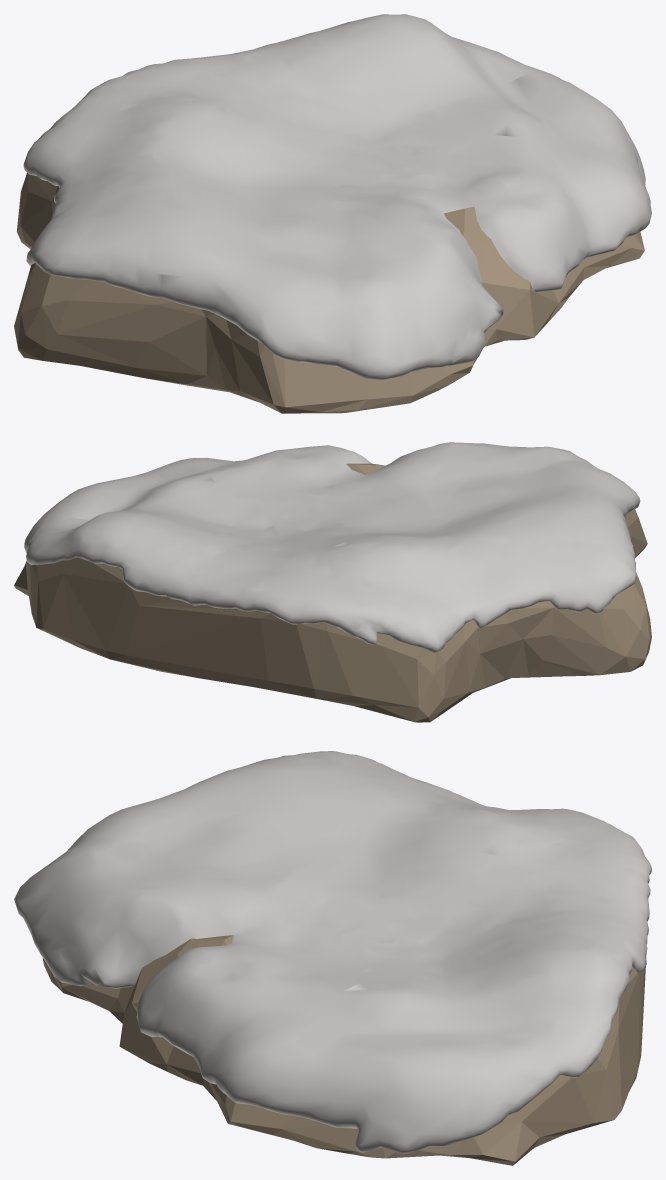
The model's file is Ground_001.fbx.
3 views of the same model, one above another, from view 1: azimuth 30°, elevation 25°; view 2: azimuth 150°, elevation 25°; view 3: azimuth 270°, elevation 25° (orthographic). The views are drawn at different scales.
Visible parts, largest first — view 1: Ground.001; view 2: Ground.001; view 3: Ground.001.
Boxes of the visible parts, box(x1,y1,x2,y2) form: Ground.001: box(14, 14, 651, 413); Ground.001: box(14, 442, 651, 722); Ground.001: box(14, 751, 651, 1165).
Size of the model in its own units: 3021 by 642 by 2509.
